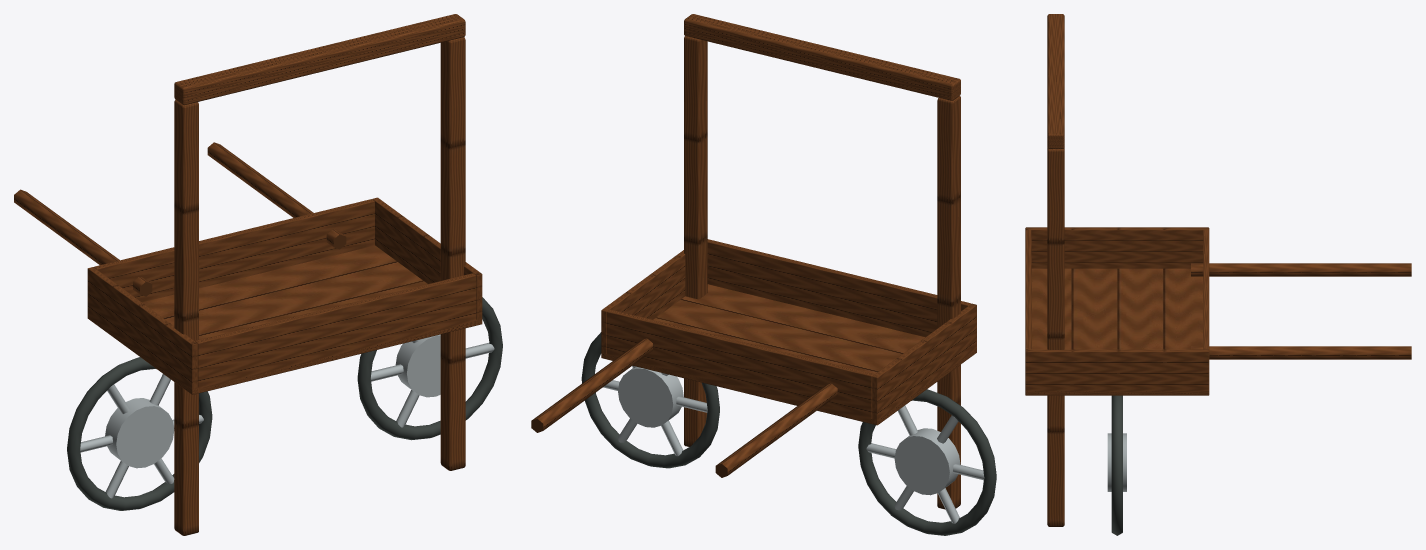
The picture shows the model from 3 angles, left to right: view 1: azimuth 30°, elevation 25°; view 2: azimuth 150°, elevation 25°; view 3: azimuth 270°, elevation 25°; orthographic projection. The views are drawn at different scales.
Parts seen in each view (by area): view 1: merchant-display-cart; view 2: merchant-display-cart; view 3: merchant-display-cart.
Boxes of the visible parts, x1=… form: merchant-display-cart: x1=14, y1=14, x2=502, y2=535; merchant-display-cart: x1=531, y1=14, x2=996, y2=535; merchant-display-cart: x1=1025, y1=14, x2=1411, y2=535.
Size of the model in its own units: 1.8 by 1.77 by 1.58.
3 materials, 1 textured.
